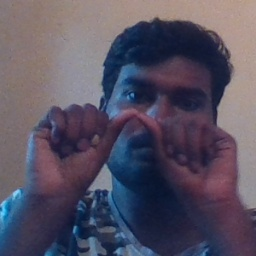A: (58, 98, 208, 199)
